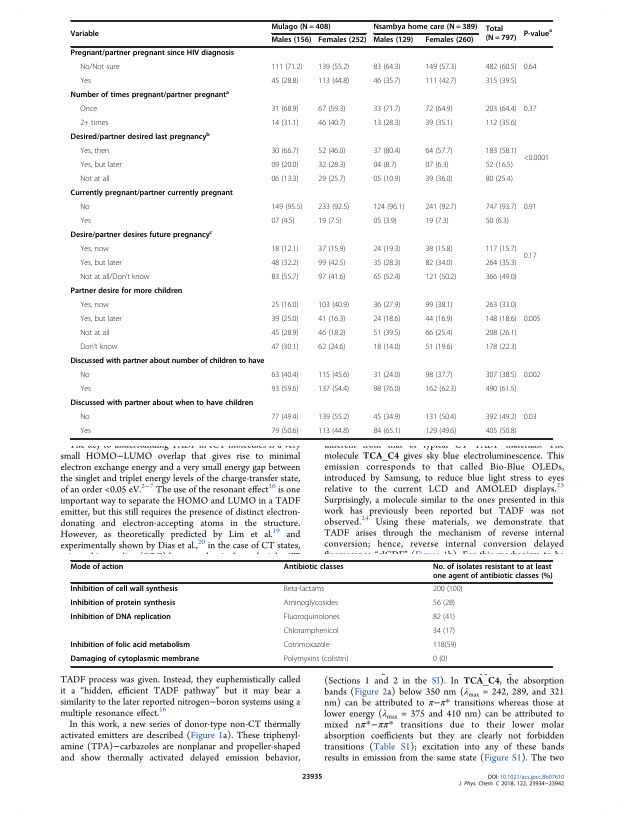borderless: (69, 19, 552, 438), (69, 559, 552, 666)
cell: (432, 563, 553, 581), (70, 357, 265, 367), (70, 399, 254, 409), (70, 90, 230, 101), (70, 49, 235, 59), (70, 189, 234, 199), (70, 230, 213, 241), (70, 132, 211, 143), (70, 655, 200, 665), (70, 641, 191, 651), (70, 287, 183, 297), (70, 585, 179, 595), (70, 599, 176, 609), (70, 613, 172, 623), (372, 23, 478, 32), (283, 655, 349, 665), (79, 273, 151, 282), (283, 613, 341, 623), (485, 25, 517, 43), (283, 599, 339, 609), (283, 627, 339, 637), (283, 563, 345, 572), (270, 23, 331, 32), (317, 36, 367, 46), (424, 36, 474, 46), (70, 563, 124, 572), (283, 641, 330, 651), (270, 36, 312, 46), (372, 36, 414, 46), (283, 585, 325, 595), (79, 161, 123, 170), (79, 259, 123, 268), (79, 315, 123, 324), (79, 63, 120, 72), (79, 343, 118, 352), (523, 28, 553, 39), (432, 585, 463, 595), (70, 29, 100, 39), (270, 63, 303, 72), (317, 63, 350, 72), (424, 63, 457, 72), (317, 77, 350, 86), (424, 77, 457, 86), (270, 203, 303, 212), (317, 203, 350, 212), (372, 203, 405, 212), (424, 203, 457, 212), (424, 273, 457, 282), (317, 301, 350, 310), (317, 371, 350, 380), (317, 385, 350, 394), (424, 385, 457, 394), (317, 413, 350, 422), (424, 413, 457, 422), (317, 427, 350, 436), (424, 427, 457, 436), (485, 63, 517, 72), (485, 77, 517, 86), (485, 105, 517, 114), (485, 119, 517, 128), (485, 147, 517, 156), (485, 203, 517, 212), (485, 245, 517, 254), (485, 259, 517, 268), (485, 273, 517, 282), (485, 301, 517, 310), (485, 315, 517, 324), (485, 329, 517, 338), (485, 343, 517, 352), (485, 371, 517, 380), (485, 385, 517, 394), (485, 413, 517, 422), (485, 427, 517, 436), (79, 147, 110, 156), (79, 175, 110, 184), (79, 245, 110, 254), (79, 301, 110, 310), (79, 329, 110, 338), (79, 119, 109, 128), (372, 63, 401, 72), (270, 77, 299, 86), (372, 77, 401, 86), (270, 105, 299, 114), (317, 105, 346, 114), (372, 105, 401, 114), (424, 105, 453, 114), (270, 119, 299, 128), (317, 119, 346, 128), (372, 119, 401, 128), (424, 119, 453, 128), (270, 147, 299, 156), (317, 147, 346, 156), (372, 147, 401, 156), (424, 147, 453, 156), (270, 161, 299, 170), (317, 161, 346, 170), (485, 161, 514, 170), (270, 175, 299, 184), (317, 175, 346, 184), (372, 175, 401, 184), (424, 175, 453, 184), (485, 175, 514, 184), (270, 245, 299, 254), (317, 245, 346, 254), (372, 245, 401, 254), (424, 245, 453, 254), (270, 259, 299, 268), (317, 259, 346, 268), (372, 259, 401, 268), (424, 259, 453, 268), (270, 273, 299, 282), (317, 273, 346, 282), (372, 273, 401, 282), (270, 301, 299, 310), (372, 301, 401, 310), (424, 301, 453, 310), (270, 315, 299, 324), (317, 315, 346, 324), (372, 315, 401, 324), (424, 315, 453, 324), (270, 329, 299, 338), (317, 329, 346, 338), (372, 329, 401, 338), (424, 329, 453, 338), (270, 343, 299, 352), (317, 343, 346, 352), (372, 343, 401, 352), (424, 343, 453, 352), (270, 371, 299, 380), (372, 371, 401, 380), (424, 371, 453, 380), (270, 385, 299, 394), (372, 385, 401, 394), (270, 413, 299, 422), (372, 413, 401, 422), (270, 427, 299, 436), (372, 427, 401, 436), (432, 641, 457, 651), (523, 154, 550, 163), (432, 599, 456, 609), (432, 613, 456, 623), (432, 627, 456, 637), (372, 161, 398, 170), (424, 161, 450, 170), (270, 217, 296, 226), (372, 217, 398, 226), (424, 217, 450, 226), (317, 217, 342, 226), (485, 217, 510, 226), (79, 105, 98, 114), (523, 315, 541, 324), (523, 371, 541, 380), (432, 655, 448, 665), (523, 63, 537, 72), (523, 105, 537, 114), (523, 203, 537, 212), (523, 252, 537, 261), (523, 413, 537, 422), (79, 77, 92, 86), (79, 217, 92, 226), (79, 385, 92, 394), (79, 427, 92, 436), (79, 203, 90, 212), (79, 371, 90, 380), (79, 413, 90, 422)
